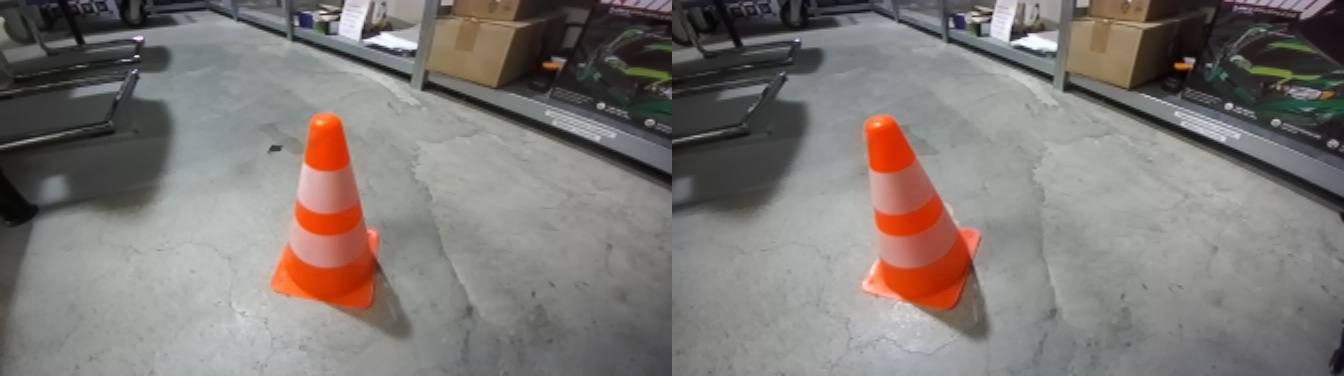cone: (854, 116, 989, 317), (275, 118, 387, 315)
